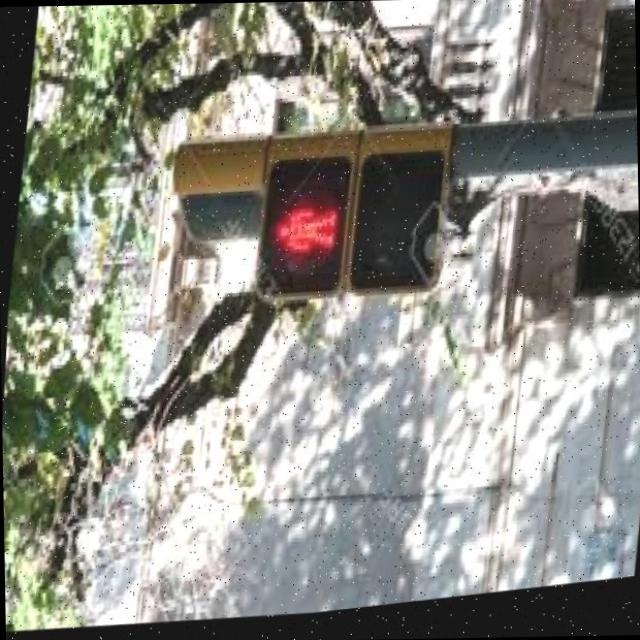red_light: (256, 185, 340, 282)
